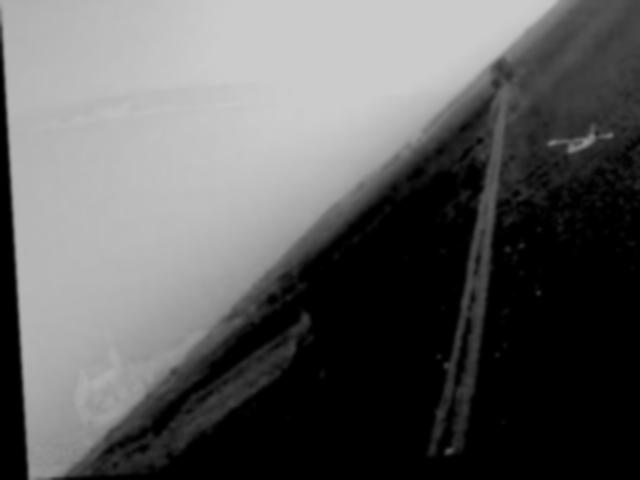hedef: (533, 119, 625, 179)
